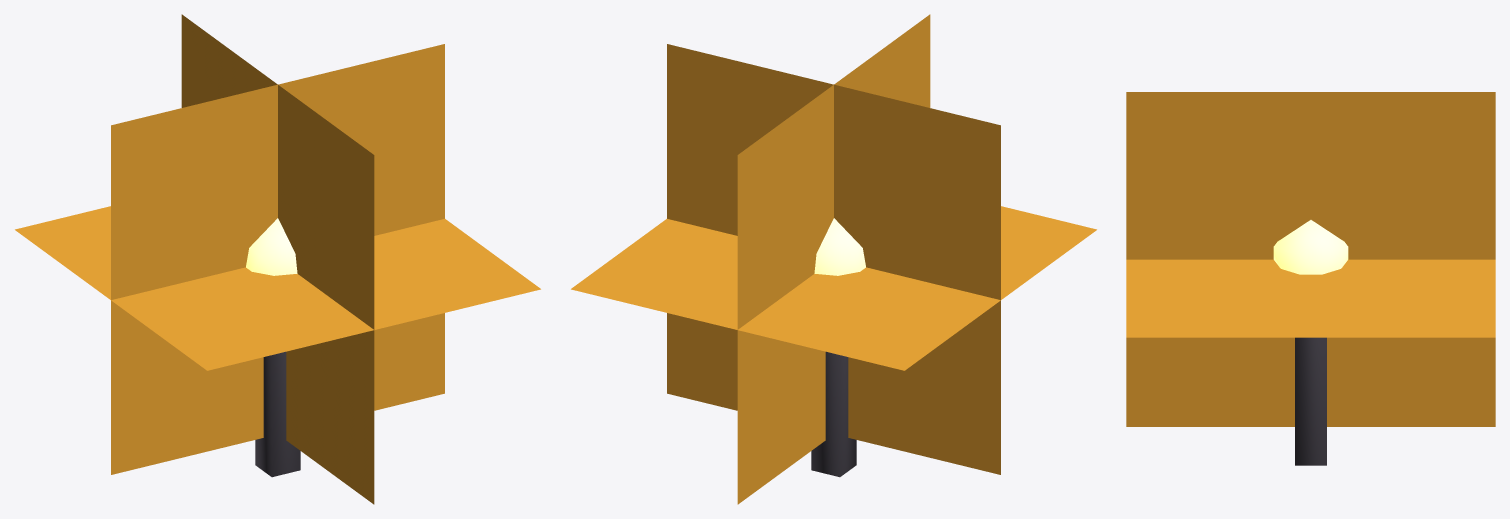
Rendered from gulch_coaster_lamp.glb.
3 renders of one model, left to right at view 1: azimuth 30°, elevation 25°; view 2: azimuth 150°, elevation 25°; view 3: azimuth 270°, elevation 25°, orthographic. The views are drawn at different scales.
Visible parts, largest first — view 1: CoasterLamp; view 2: CoasterLamp; view 3: CoasterLamp.
Part boxes in pixels (left/top/right/bottom): CoasterLamp: left=15, top=14, right=540, bottom=504; CoasterLamp: left=571, top=14, right=1096, bottom=504; CoasterLamp: left=1126, top=92, right=1495, bottom=465.
Bounding box in the file's own units: 0.924 × 1.01 × 0.924.
